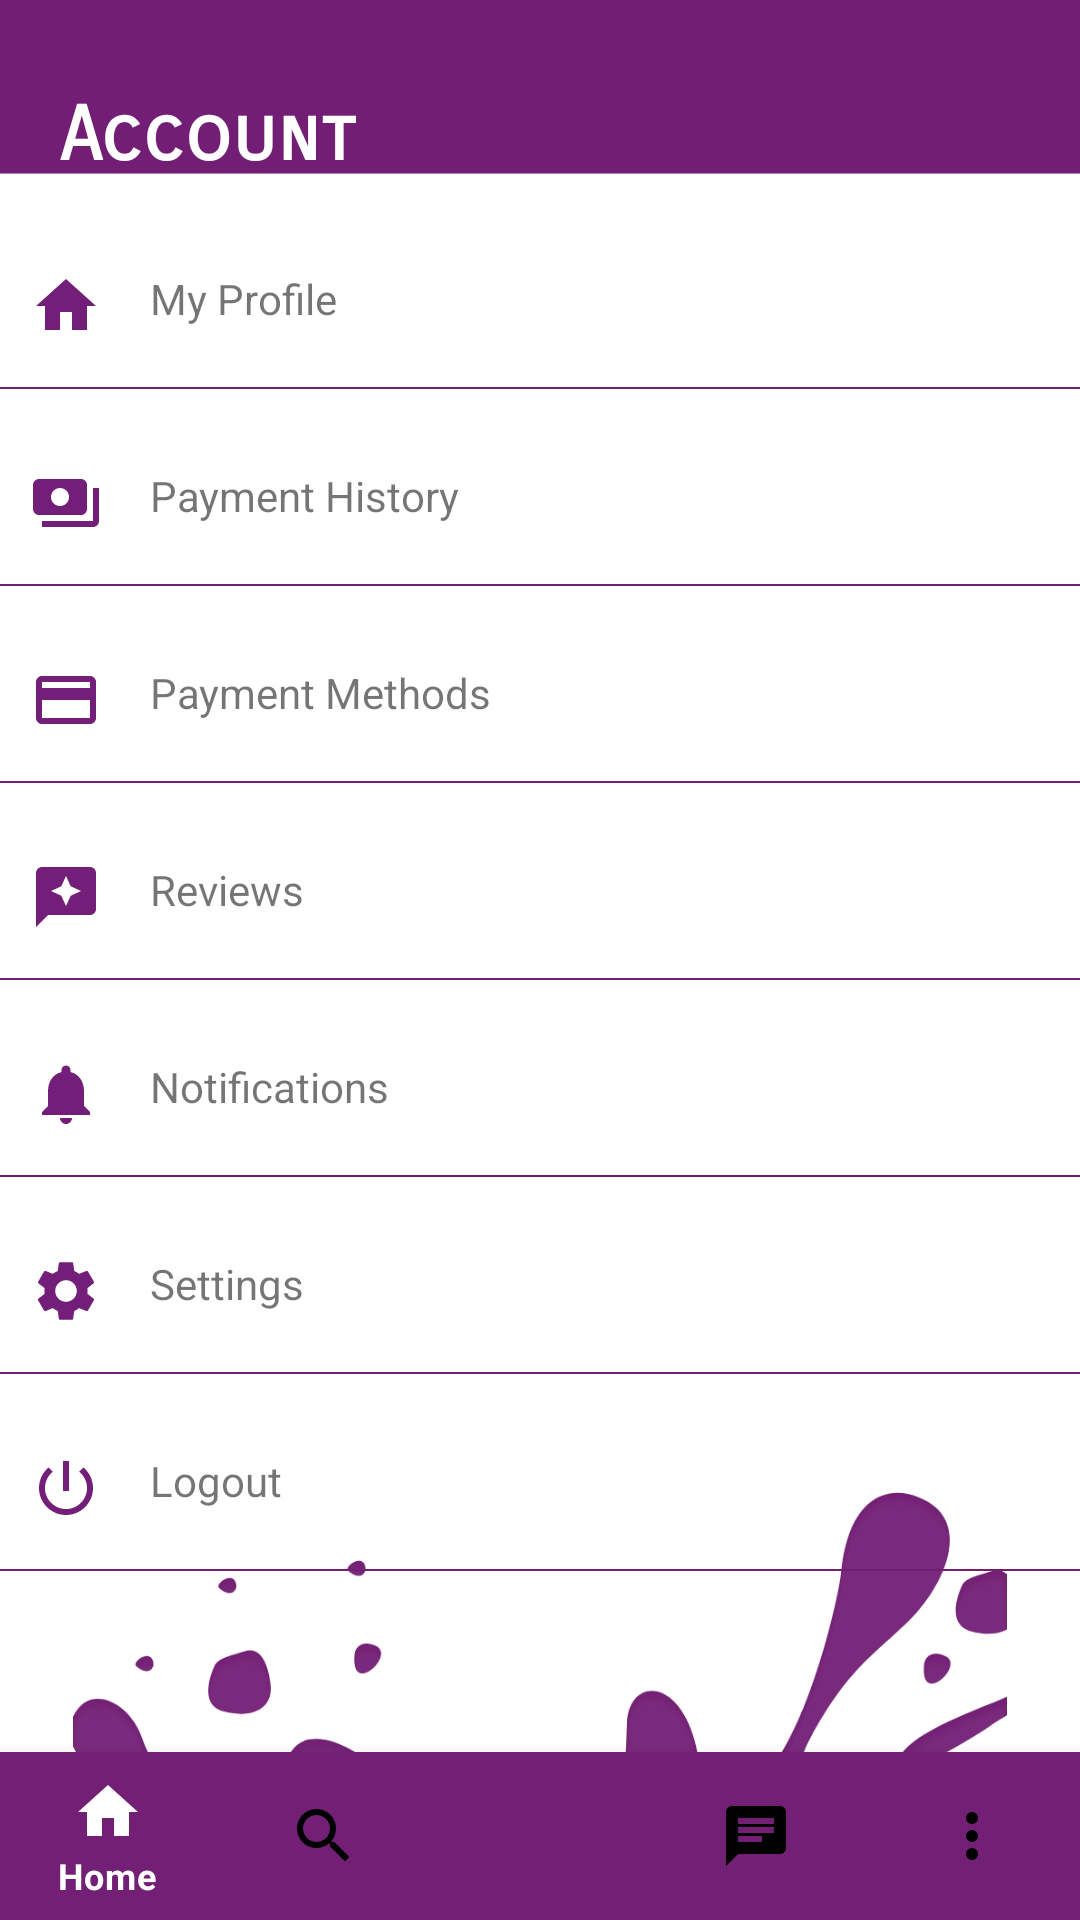

Screen size 1080 x 1920. Icon name, then its center in pixels as (x,y):
payments history: (66,503)
power: (66,1488)
